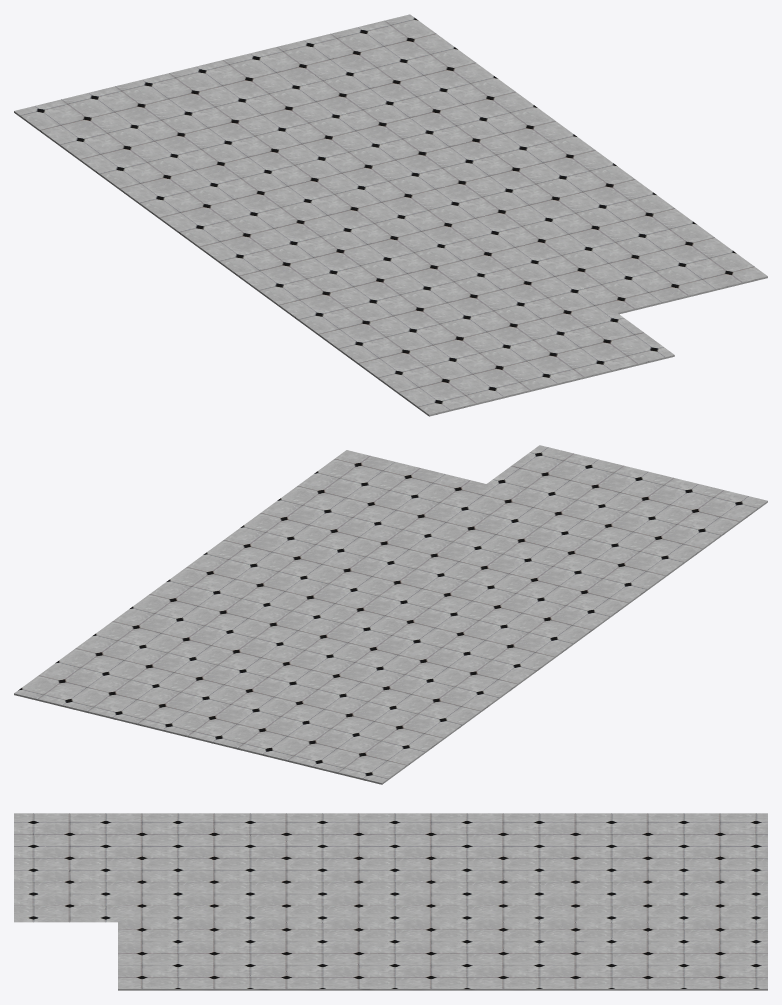
The model's file is kitchen tile.fbx.
The picture shows the model from 3 angles, top to bottom: view 1: azimuth 30°, elevation 25°; view 2: azimuth 150°, elevation 25°; view 3: azimuth 270°, elevation 25°; orthographic projection. The views are drawn at different scales.
Parts seen in each view (by area): view 1: pCube22; view 2: pCube22; view 3: pCube22.
Part boxes in pixels (<box>): pCube22: <box>14,14,767,416</box>; pCube22: <box>14,445,767,784</box>; pCube22: <box>14,813,767,990</box>.
Bounding box in the file's own units: 107 × 0.4531 × 194.
1 material, 1 textured.
